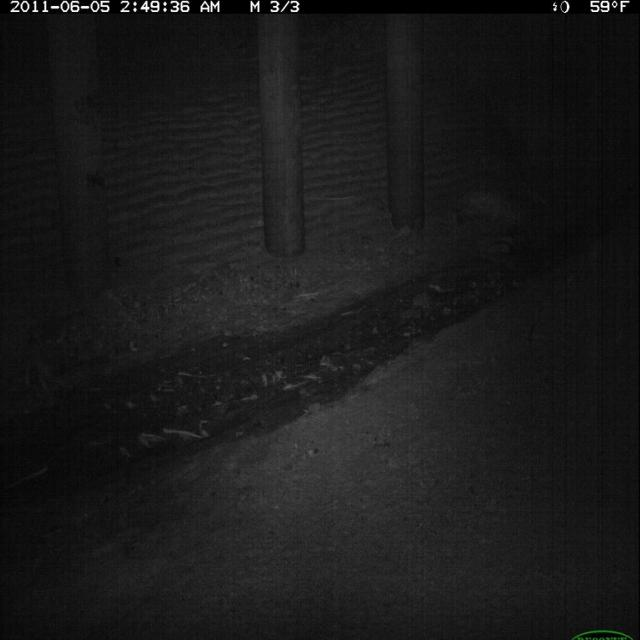bobcat: (13, 328, 57, 398)
